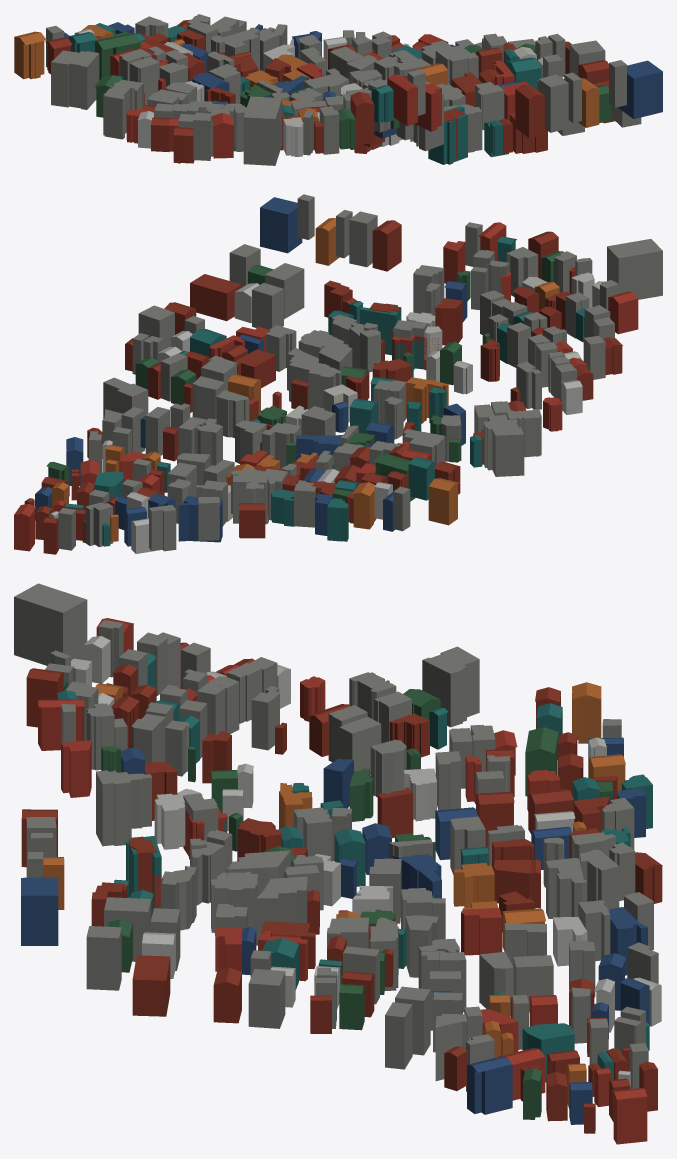
File: near-17-109440-59479.3884cd00.glb
3 views of the same model, one above another, from view 1: azimuth 30°, elevation 25°; view 2: azimuth 150°, elevation 25°; view 3: azimuth 270°, elevation 25° (orthographic). The views are drawn at different scales.
Bounding box in the file's own units: 313 × 150 × 299.
